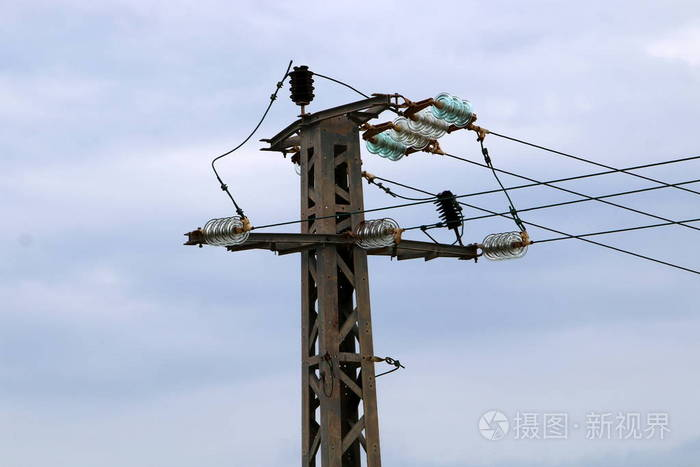insulator: (198, 215, 247, 250), (434, 91, 475, 128), (355, 217, 402, 248), (482, 230, 529, 261), (390, 118, 432, 150), (366, 132, 407, 159), (408, 112, 449, 137)
